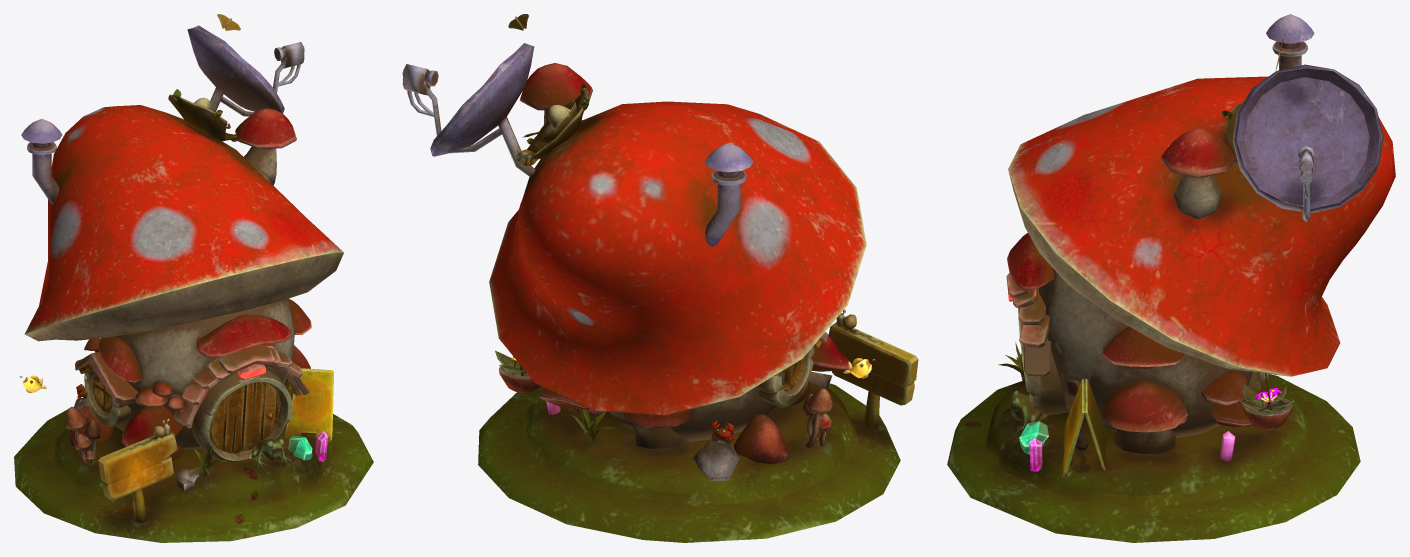
File: mash.gltf
3 views of the same model, side by side, from view 1: azimuth 30°, elevation 25°; view 2: azimuth 150°, elevation 25°; view 3: azimuth 270°, elevation 25° (orthographic). The views are drawn at different scales.
Parts seen in each view (by area): view 1: Object_4; view 2: Object_4; view 3: Object_4.
Boxes of the visible parts, x1,y1,x2,y2 form: Object_4: (14, 14, 373, 542); Object_4: (402, 14, 918, 542); Object_4: (947, 14, 1395, 542).
Size of the model in its own units: 9.59 by 10.64 by 9.3.
Materials: 1 (1 with a texture image).
